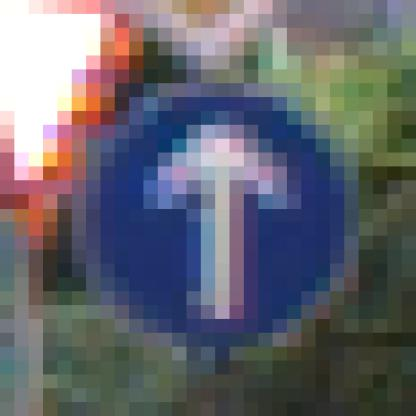AheadOnly: (73, 84, 345, 348)
